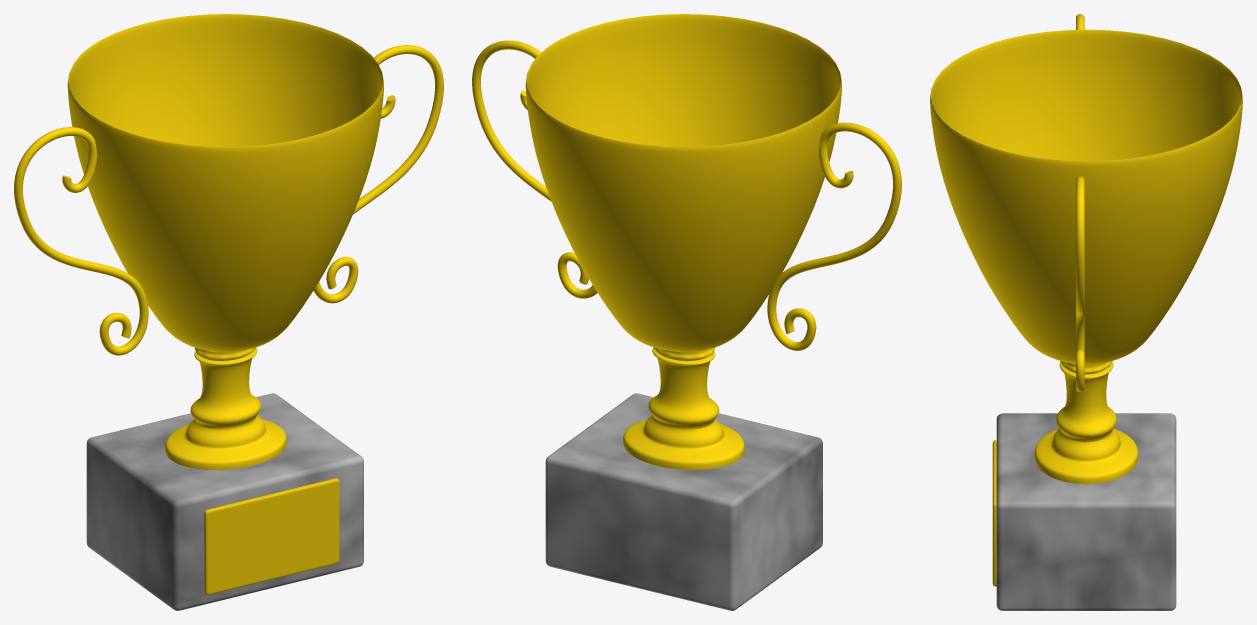
The model's file is trophy_compressed.glb.
3 views of the same model, side by side, from view 1: azimuth 30°, elevation 25°; view 2: azimuth 150°, elevation 25°; view 3: azimuth 270°, elevation 25° (orthographic).
Visible parts, largest first — view 1: trophy, sign2; view 2: trophy; view 3: trophy.
Boxes of the visible parts, left/top/right/bottom form: trophy: left=14, top=14, right=443, bottom=610; sign2: left=211, top=485, right=335, bottom=589; trophy: left=472, top=14, right=901, bottom=610; trophy: left=930, top=14, right=1242, bottom=610.
Bounding box in the file's own units: 0.6504 × 0.6911 × 0.4155.
Materials: 3 (1 with a texture image).
